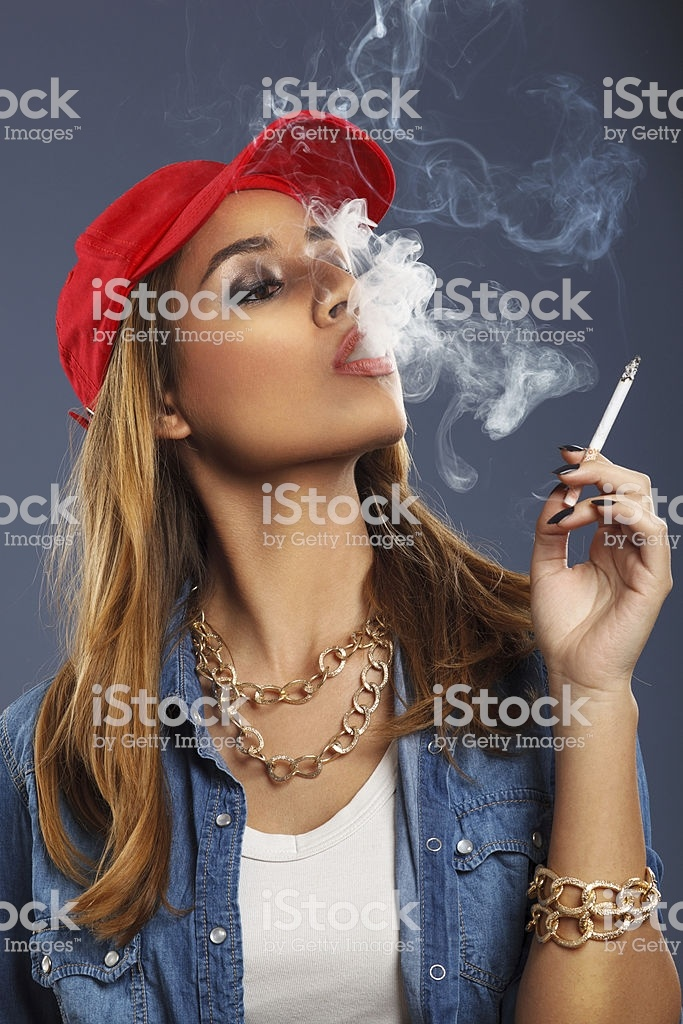sigaretta: (564, 356, 645, 503)
